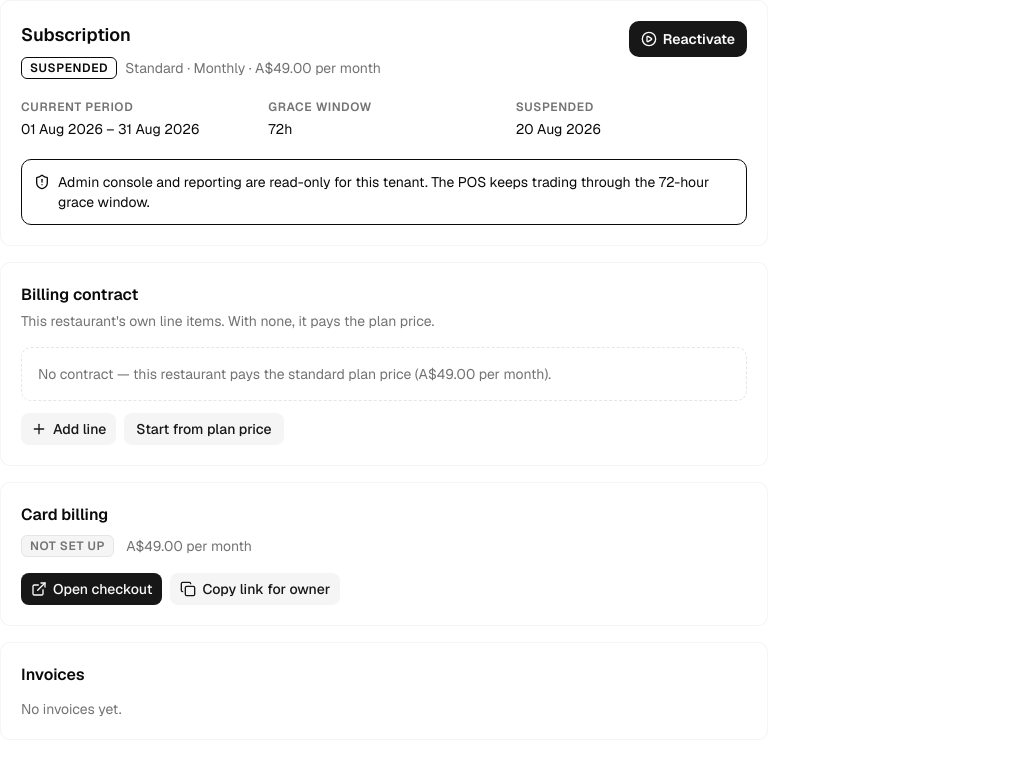
Test: SubscriptionTab › reactivate: posts the reason and refetches to active
Click the button with test id "subscription-reactivate" at (688, 39), box [629, 21, 747, 57]
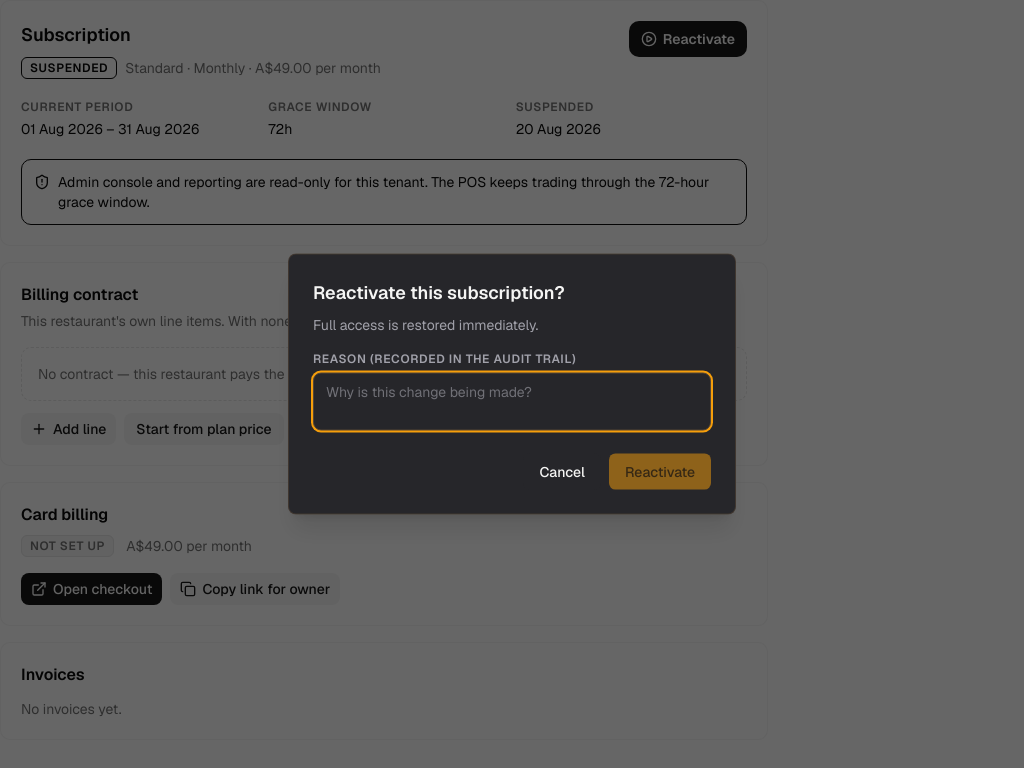
Type "Payment received" into the text box with test id "confirm-reason" at (512, 402), box [313, 372, 711, 430]
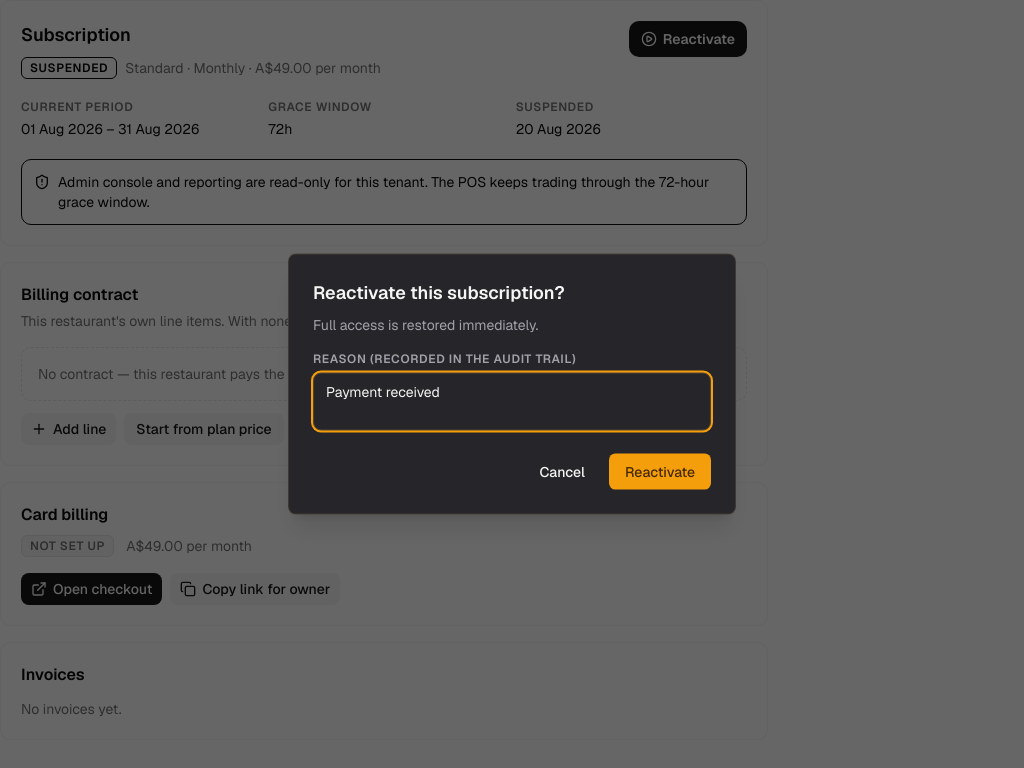
Click the button with test id "confirm-submit" at (660, 472), box [609, 454, 711, 490]
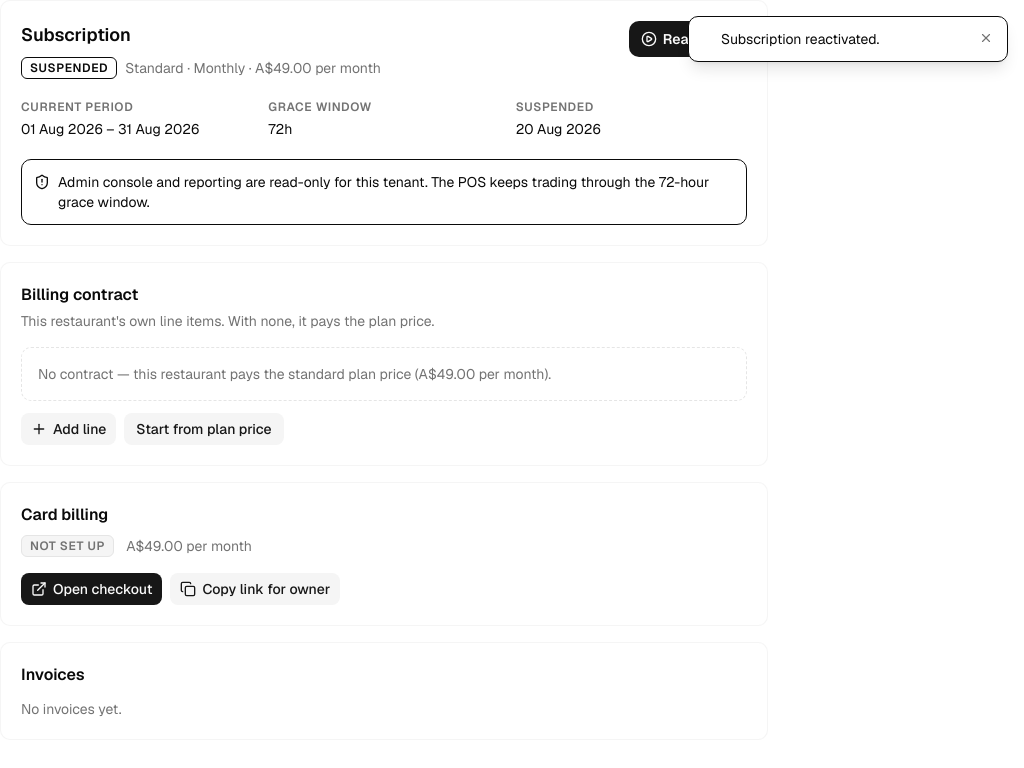
Result: the element with test id "toast-success" is shown at [688, 16, 1008, 62]
